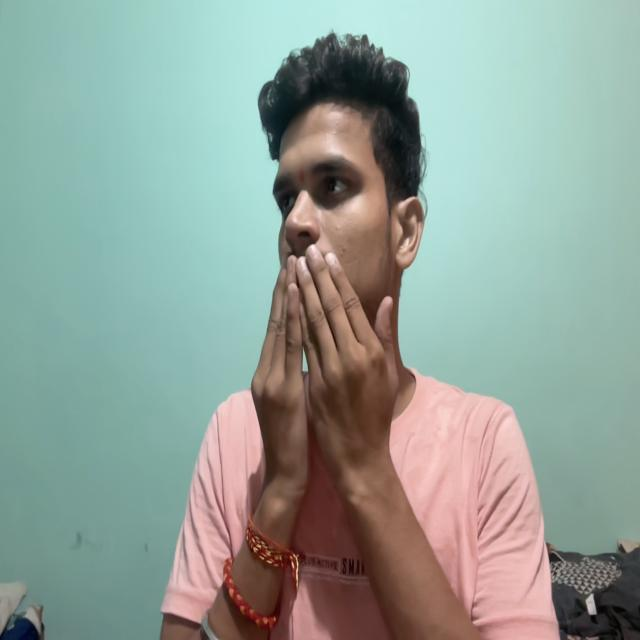Thanks: (221, 232, 435, 588)
